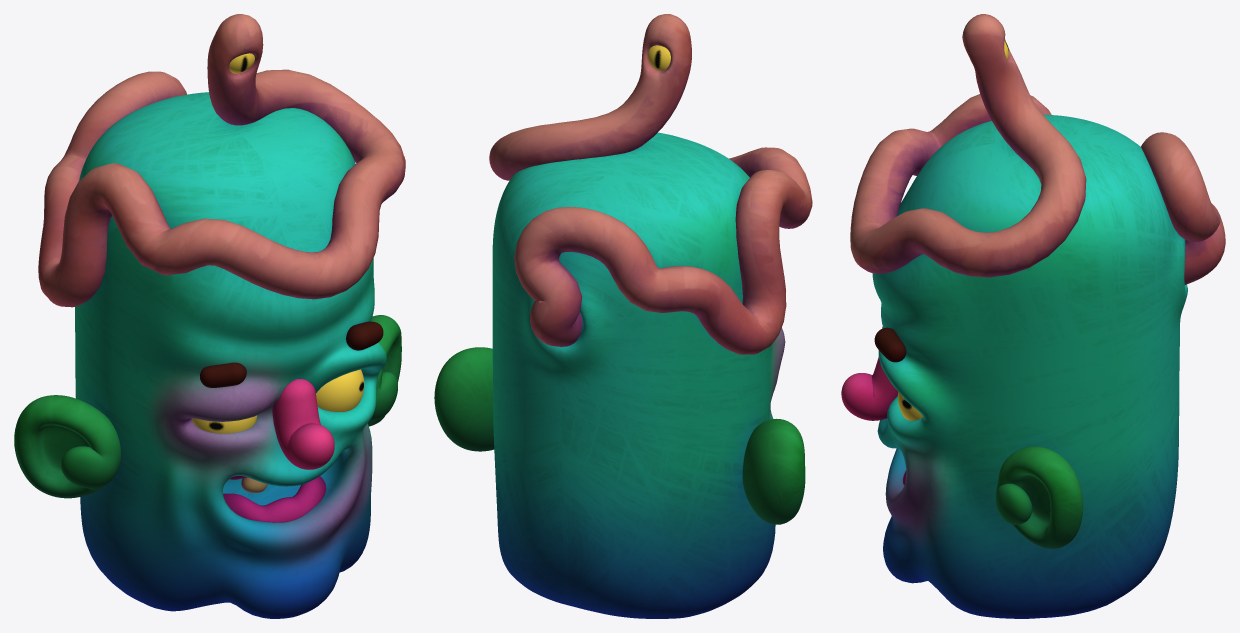
The model's file is psycho.glb.
3 views of the same model, side by side, from view 1: azimuth 30°, elevation 25°; view 2: azimuth 150°, elevation 25°; view 3: azimuth 270°, elevation 25° (orthographic). The views are drawn at different scales.
Visible parts, largest first — view 1: Head; view 2: Head; view 3: Head.
Boxes of the visible parts, box(x1,y1,x2,y2) form: Head: box(14, 14, 405, 618); Head: box(434, 14, 812, 618); Head: box(841, 14, 1225, 618).
Bounding box in the file's own units: 3.02 × 4.33 × 2.72.
Materials: 1 (1 with a texture image).
